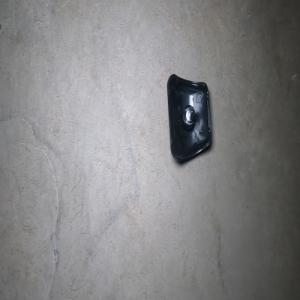LuggagePart: (166, 72, 212, 165)
